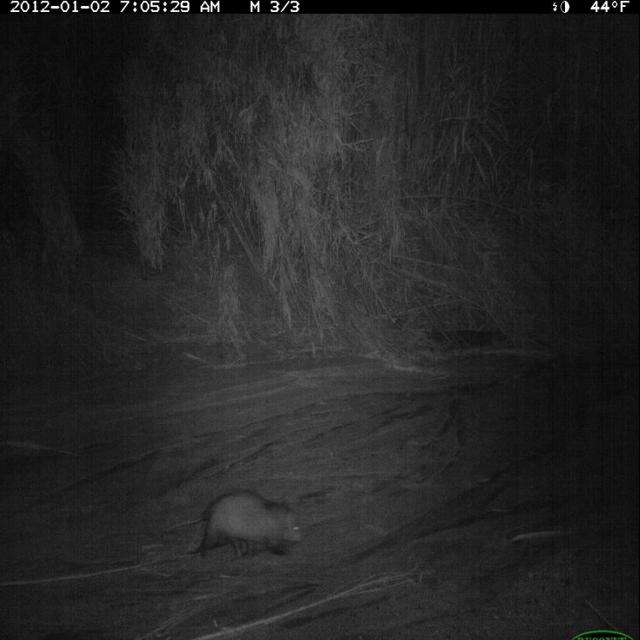opossum: (186, 484, 313, 566)
